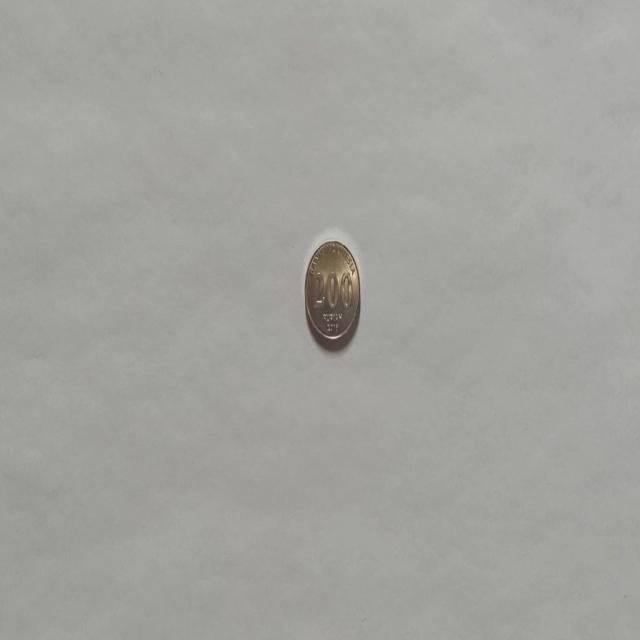dua ratus rupiah: (304, 238, 361, 347)
